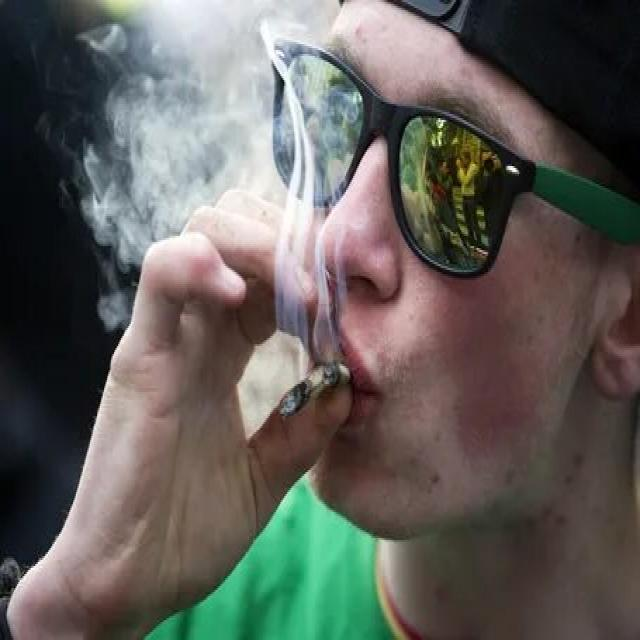smoke: (276, 356, 353, 424)
